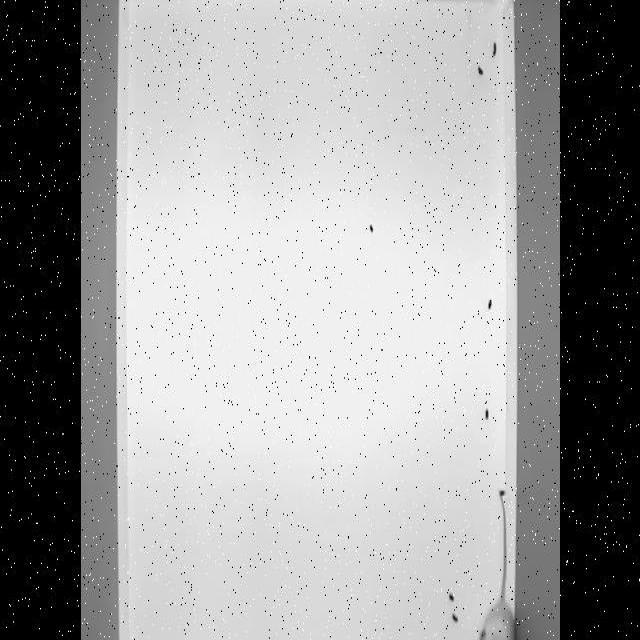rat: (470, 488, 514, 640)
